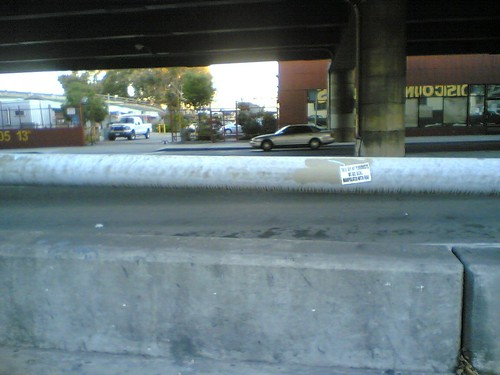building: (278, 54, 500, 137)
car: (244, 121, 337, 153), (109, 113, 154, 141)
collumn: (352, 1, 415, 162), (326, 58, 355, 145)
